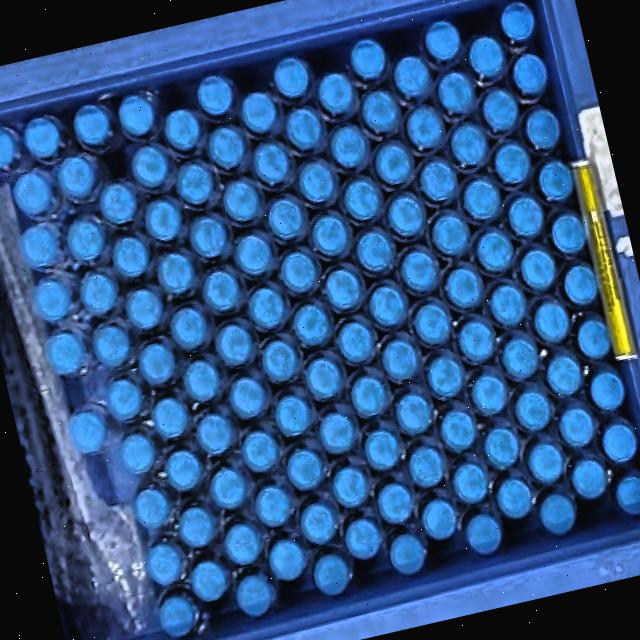vial: (40, 327, 86, 381), (268, 52, 314, 102), (270, 390, 316, 440), (74, 266, 118, 318), (61, 219, 108, 267), (325, 117, 370, 167), (16, 223, 63, 270), (19, 110, 63, 160), (158, 446, 202, 496), (438, 407, 482, 457), (67, 100, 112, 148), (147, 393, 191, 442), (190, 73, 236, 119), (134, 341, 179, 388), (547, 208, 591, 256), (417, 496, 461, 544), (454, 316, 498, 364), (586, 366, 630, 414), (66, 410, 110, 457), (422, 15, 466, 62), (378, 337, 422, 384), (486, 282, 530, 329), (154, 248, 197, 296), (534, 159, 577, 207), (244, 285, 289, 330), (128, 484, 172, 530), (510, 390, 554, 436), (495, 0, 542, 43), (360, 89, 403, 136), (239, 429, 282, 476), (463, 513, 506, 560), (296, 158, 338, 206), (460, 175, 502, 223), (188, 558, 230, 606), (348, 373, 390, 421), (538, 492, 580, 540), (544, 352, 586, 400), (555, 404, 597, 452), (340, 176, 383, 222), (257, 337, 300, 383), (531, 298, 574, 344), (492, 140, 534, 187), (386, 530, 428, 577), (104, 376, 144, 425), (187, 214, 229, 260), (232, 232, 274, 278), (390, 52, 432, 98), (504, 194, 546, 240), (144, 542, 186, 588), (220, 522, 262, 568), (233, 574, 275, 620), (561, 262, 603, 308), (115, 90, 155, 138), (124, 286, 164, 334), (299, 500, 339, 548), (154, 596, 197, 640), (10, 172, 52, 217), (180, 358, 222, 403), (212, 323, 254, 368), (424, 354, 466, 399), (603, 419, 640, 470), (29, 277, 70, 323), (109, 234, 150, 280), (162, 108, 203, 154), (168, 304, 209, 350), (284, 448, 325, 494), (176, 505, 216, 552), (499, 334, 539, 381), (446, 122, 488, 166), (523, 108, 565, 152), (355, 230, 397, 274), (366, 284, 408, 328), (290, 304, 332, 348), (316, 410, 358, 454), (56, 156, 96, 202), (405, 104, 445, 150), (418, 156, 458, 202), (208, 466, 248, 512), (569, 457, 609, 503), (409, 443, 448, 490), (193, 412, 234, 456), (430, 211, 470, 256), (362, 429, 402, 474), (452, 461, 492, 506), (174, 162, 215, 205), (128, 144, 168, 188), (220, 178, 260, 222), (278, 254, 318, 298), (315, 70, 355, 114), (480, 90, 520, 134), (412, 303, 452, 347), (225, 374, 265, 418), (330, 465, 370, 509), (311, 552, 350, 597), (204, 270, 242, 316), (285, 108, 323, 154), (512, 52, 550, 98), (472, 371, 510, 417), (526, 440, 564, 486), (118, 431, 158, 474), (310, 215, 350, 258), (323, 269, 363, 312), (266, 538, 306, 581), (387, 194, 426, 238), (253, 484, 292, 528), (343, 518, 382, 562), (208, 124, 245, 170), (348, 36, 388, 78), (466, 36, 506, 78), (376, 482, 416, 524), (393, 392, 433, 434), (574, 318, 614, 360), (266, 198, 305, 241), (374, 144, 412, 188), (303, 356, 341, 400), (495, 476, 533, 520), (240, 91, 280, 132), (398, 251, 438, 292), (98, 182, 136, 225), (476, 232, 514, 275), (521, 248, 558, 292), (92, 322, 130, 364), (252, 142, 290, 184), (436, 71, 474, 113), (142, 198, 181, 238), (482, 427, 520, 468), (338, 322, 375, 363), (612, 472, 640, 520), (446, 270, 482, 304), (0, 124, 18, 176)
